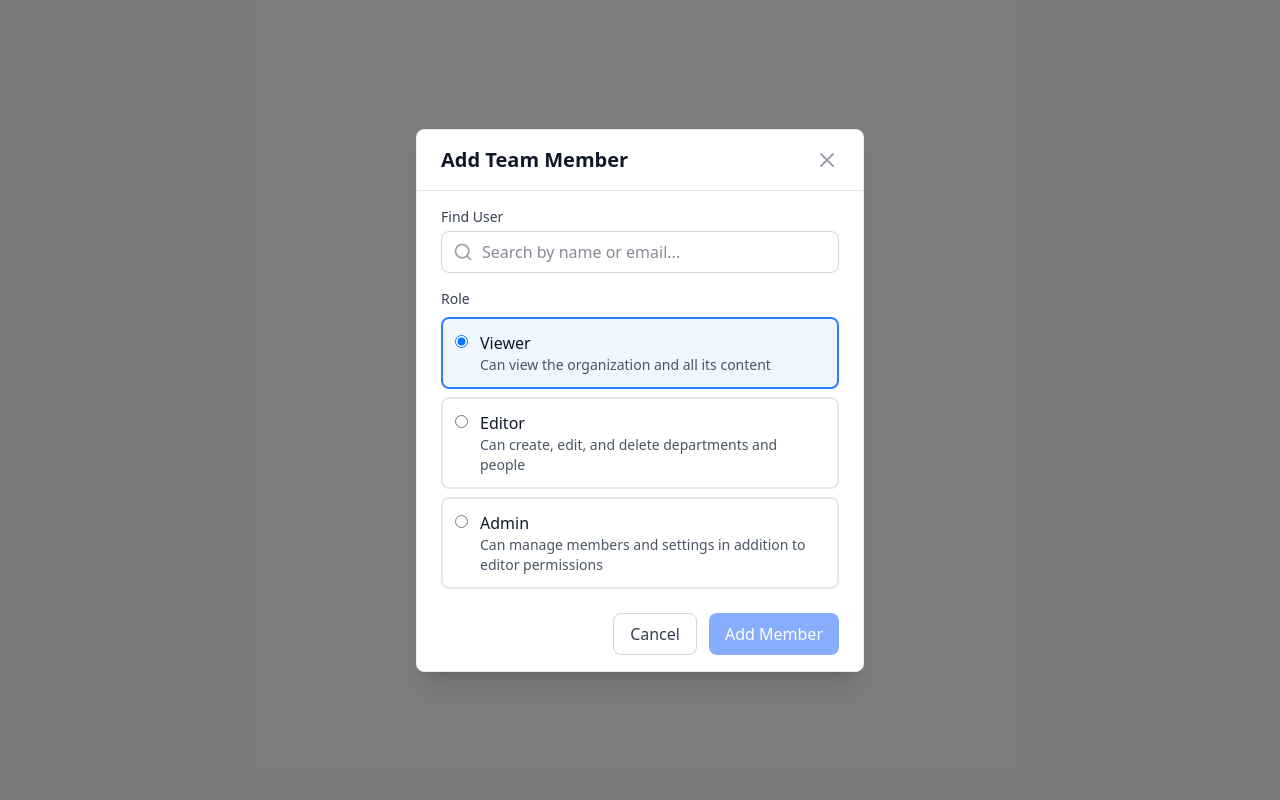
Test: AddMemberModal › handles "User not found" scenario correctly
// Enter email
Type "unknown@example.com" into the field with placeholder "Search by name or email...". click: (640, 252)
box: [441,230,839,272]
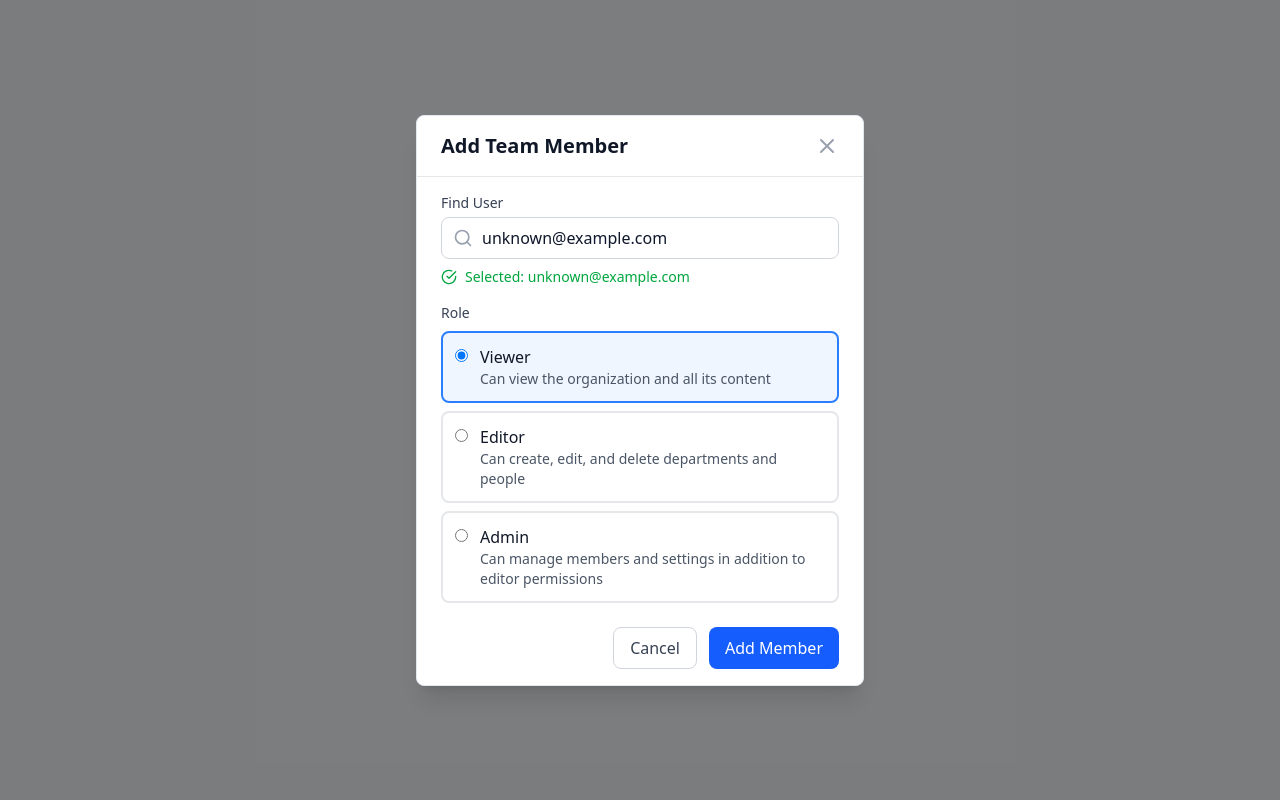
// Click Add Member
Click the button "Add Member". click: (774, 648)
box: [709,626,839,668]
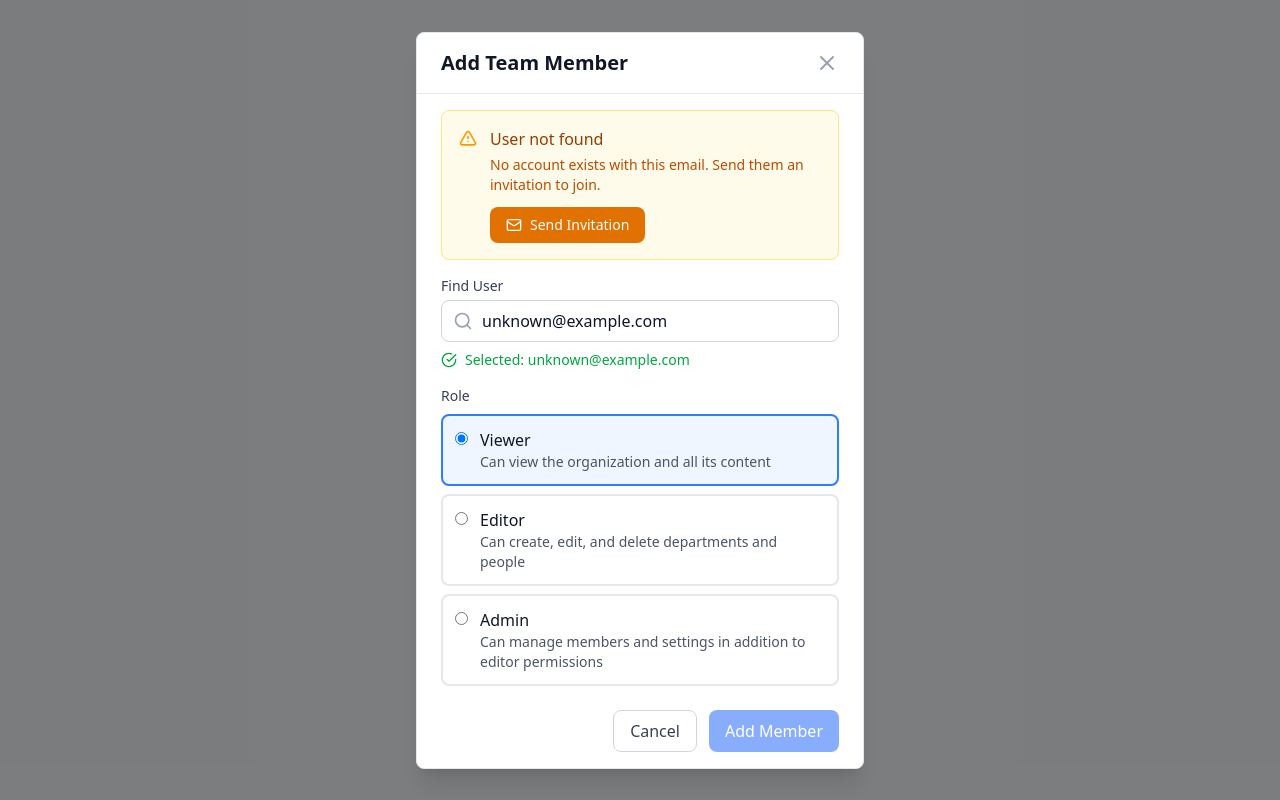
Now the text "User not found" is shown, box [490,128,604,150]
Now the text "No account exists with this email" is shown, box [490,154,804,194]
Now the button "Send Invitation" is shown, box [490,206,645,242]
